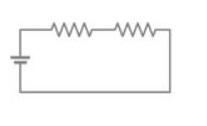resistor: (106, 13, 160, 45), (41, 15, 96, 44)
